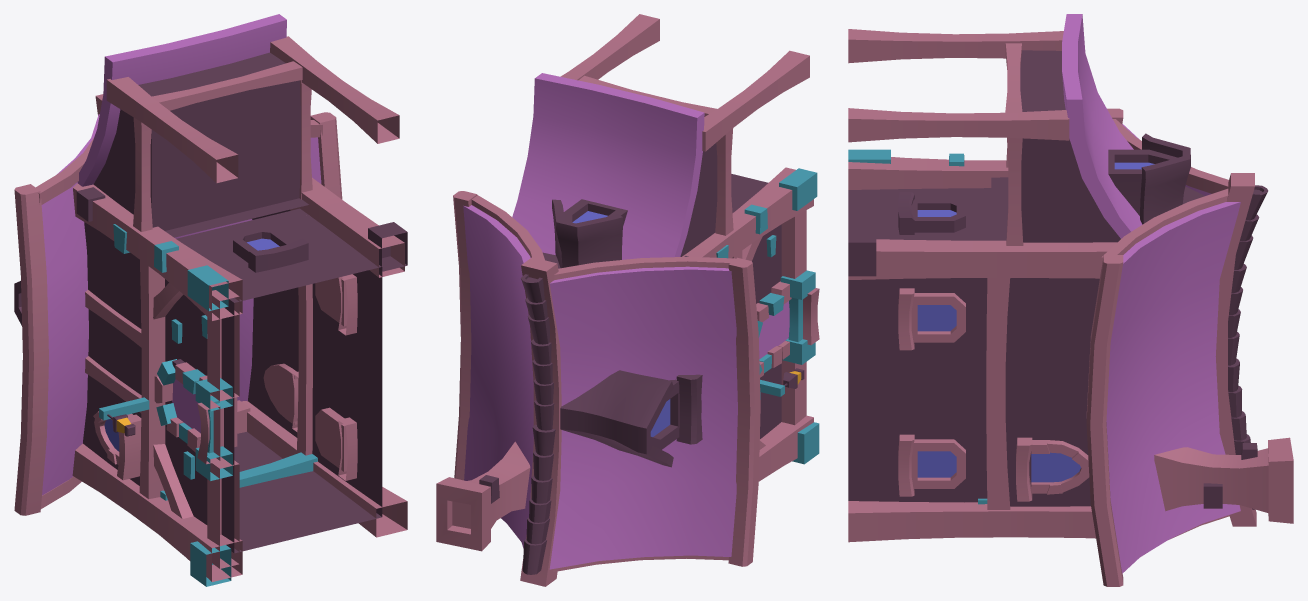
Rendered from FantasyHouse.FBX.
3 views of the same model, side by side, from view 1: azimuth 30°, elevation 25°; view 2: azimuth 150°, elevation 25°; view 3: azimuth 270°, elevation 25° (orthographic). The views are drawn at different scales.
Visible parts, largest first — view 1: House_LP; view 2: House_LP; view 3: House_LP.
Part boxes in pixels (x1,y1,x2,y2): House_LP: (14, 14, 407, 586); House_LP: (436, 14, 819, 586); House_LP: (848, 14, 1293, 586).
Bounding box in the file's own units: 79.14 × 110 × 96.13.
